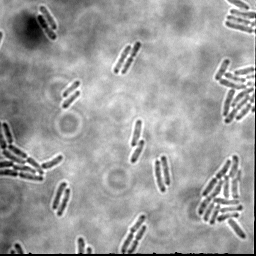Dividing: (119, 213, 147, 253), (120, 40, 142, 75), (112, 43, 132, 75), (127, 224, 147, 254), (55, 188, 72, 217), (153, 158, 167, 193)
Microcolony: (196, 154, 247, 240), (0, 119, 64, 183), (212, 58, 255, 124), (223, 1, 255, 34)
Rod: (51, 180, 68, 210), (39, 4, 58, 30), (129, 139, 146, 165), (60, 89, 81, 109), (159, 155, 172, 185), (61, 79, 81, 98), (130, 118, 143, 147)
